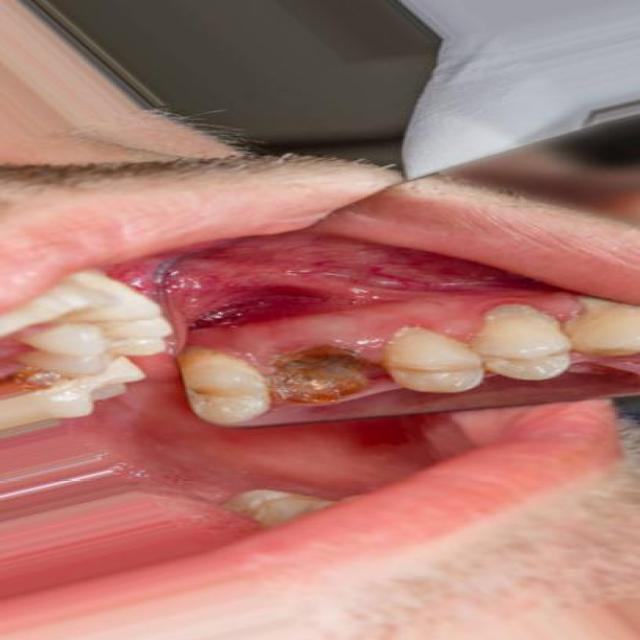caries: (265, 348, 398, 412), (4, 356, 91, 400)
